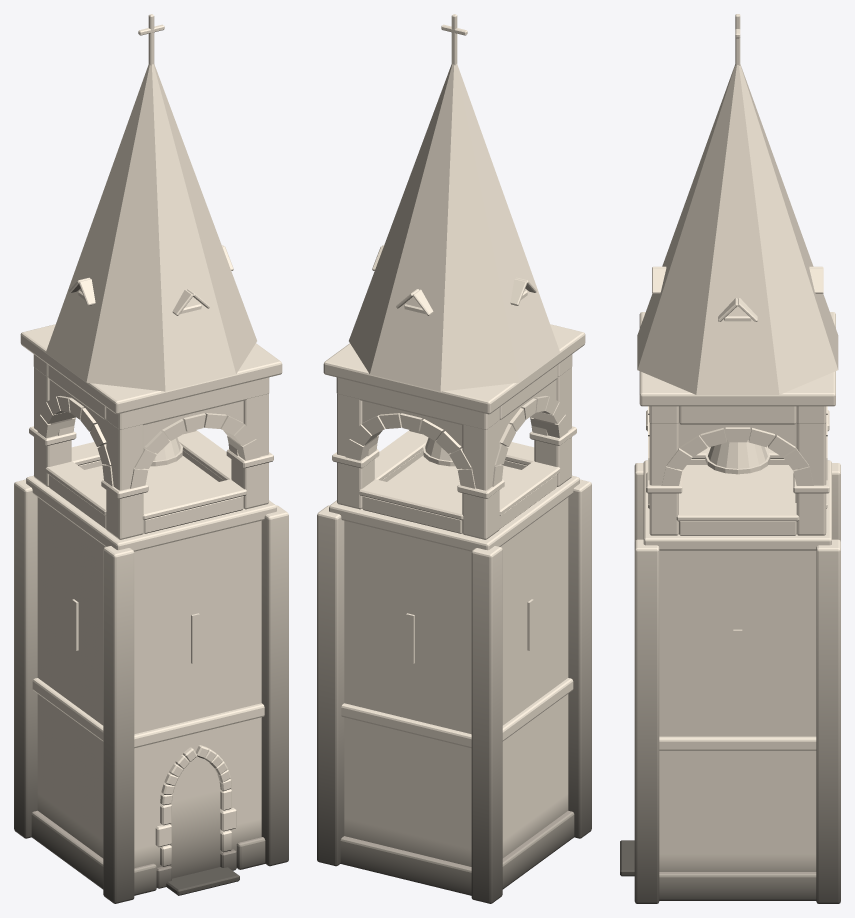
File: SM_VK_BellTower.fbx
3 renders of one model, left to right at view 1: azimuth 30°, elevation 25°; view 2: azimuth 150°, elevation 25°; view 3: azimuth 270°, elevation 25°, orthographic.
Parts seen in each view (by area): view 1: SM_VK_BellTower.001; view 2: SM_VK_BellTower.001; view 3: SM_VK_BellTower.001.
Boxes of the visible parts, left/top/right/bottom form: SM_VK_BellTower.001: left=14, top=14, right=288, bottom=903; SM_VK_BellTower.001: left=317, top=14, right=591, bottom=903; SM_VK_BellTower.001: left=620, top=14, right=840, bottom=903.
Size of the model in its own units: 4.2 by 19.04 by 4.5.
